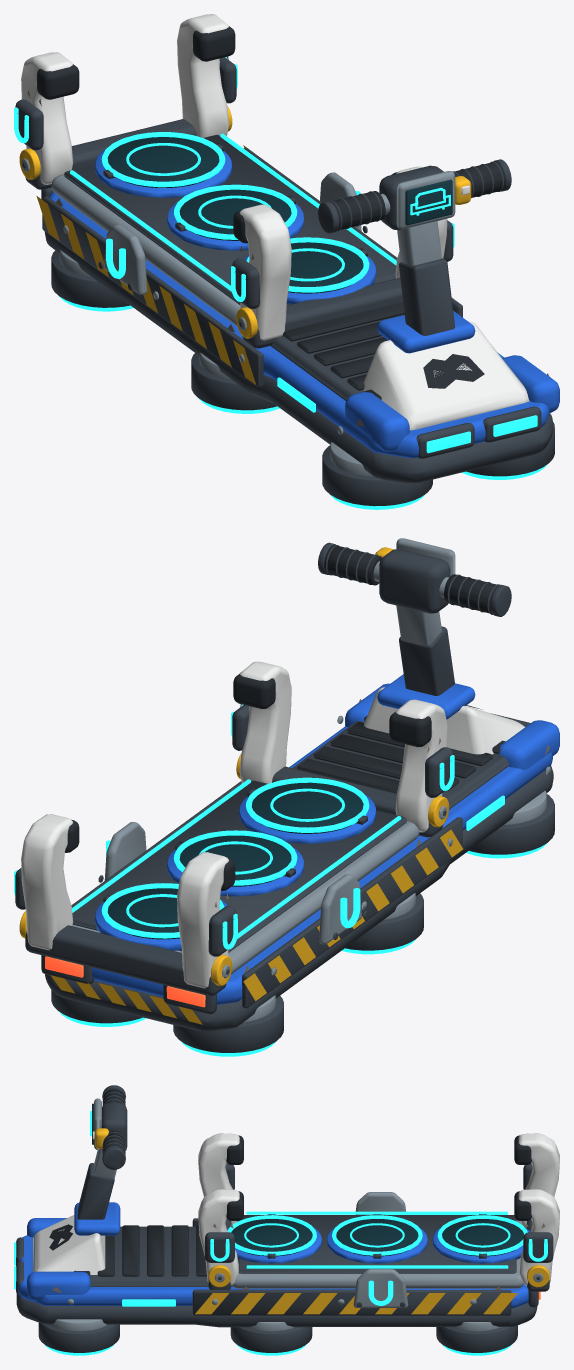
Rendered from magnetic_hoverboard.fbx.
3 renders of one model, top to bottom at view 1: azimuth 30°, elevation 25°; view 2: azimuth 150°, elevation 25°; view 3: azimuth 270°, elevation 25°, orthographic. The views are drawn at different scales.
Parts seen in each view (by area): view 1: Main_Hoverboard_Body, Magnetic_Platform, Magnetic_Arm_Right, Steering_Column_and_Handlebars, Magnetic_Arm_Left, Hover_Pad_Left_1, Side_Magnet_Badges, Hover_Pad_Left_2, Hover_Pad_Left_3, Hover_Pad_Right_1, Prow_Mask_Emblem; view 2: Main_Hoverboard_Body, Magnetic_Platform, Magnetic_Arm_Right, Magnetic_Arm_Left, Steering_Column_and_Handlebars, Side_Magnet_Badges, Hover_Pad_Left_3, Hover_Pad_Left_1, Hover_Pad_Left_2, Hover_Pad_Right_3; view 3: Main_Hoverboard_Body, Magnetic_Platform, Magnetic_Arm_Right, Magnetic_Arm_Left, Steering_Column_and_Handlebars, Side_Magnet_Badges, Hover_Pad_Right_1, Hover_Pad_Right_3, Hover_Pad_Right_2, Prow_Mask_Emblem.
Boxes of the visible parts, <box> form: Main_Hoverboard_Body: <box>36,145,559,483</box>; Magnetic_Platform: <box>51,132,396,326</box>; Magnetic_Arm_Right: <box>14,14,237,189</box>; Steering_Column_and_Handlebars: <box>318,159,511,335</box>; Magnetic_Arm_Left: <box>231,166,454,348</box>; Hover_Pad_Left_1: <box>322,442,432,509</box>; Side_Magnet_Badges: <box>98,172,367,294</box>; Hover_Pad_Left_2: <box>191,352,279,413</box>; Hover_Pad_Left_3: <box>51,250,133,311</box>; Hover_Pad_Right_1: <box>462,422,554,479</box>; Prow_Mask_Emblem: <box>423,354,484,388</box>; Main_Hoverboard_Body: <box>41,674,559,1031</box>; Magnetic_Platform: <box>72,777,419,974</box>; Magnetic_Arm_Right: <box>14,814,237,995</box>; Magnetic_Arm_Left: <box>231,661,454,837</box>; Steering_Column_and_Handlebars: <box>318,538,511,695</box>; Side_Magnet_Badges: <box>98,822,367,944</box>; Hover_Pad_Left_3: <box>173,995,283,1056</box>; Hover_Pad_Left_1: <box>466,790,554,858</box>; Hover_Pad_Left_2: <box>341,893,423,954</box>; Hover_Pad_Right_3: <box>51,990,145,1026</box>; Main_Hoverboard_Body: <box>14,1202,540,1327</box>; Magnetic_Platform: <box>227,1211,529,1288</box>; Magnetic_Arm_Right: <box>514,1133,559,1291</box>; Magnetic_Arm_Left: <box>198,1133,243,1289</box>; Steering_Column_and_Handlebars: <box>77,1085,127,1219</box>; Side_Magnet_Badges: <box>353,1192,408,1307</box>; Hover_Pad_Right_1: <box>38,1319,119,1355</box>; Hover_Pad_Right_3: <box>436,1322,517,1355</box>; Hover_Pad_Right_2: <box>230,1322,312,1355</box>; Prow_Mask_Emblem: <box>49,1224,72,1250</box>.
Bounding box in the file's own units: 1.7 × 1.97 × 4.54.
